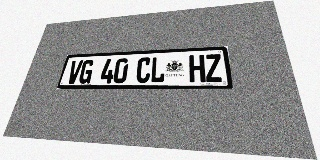0: (112, 58, 129, 83)
4: (99, 59, 116, 83)
C: (135, 57, 151, 83)
G: (78, 60, 95, 84)
H: (189, 55, 206, 82)
L: (150, 56, 165, 83)
V: (66, 60, 83, 84)
Z: (205, 54, 223, 82)
